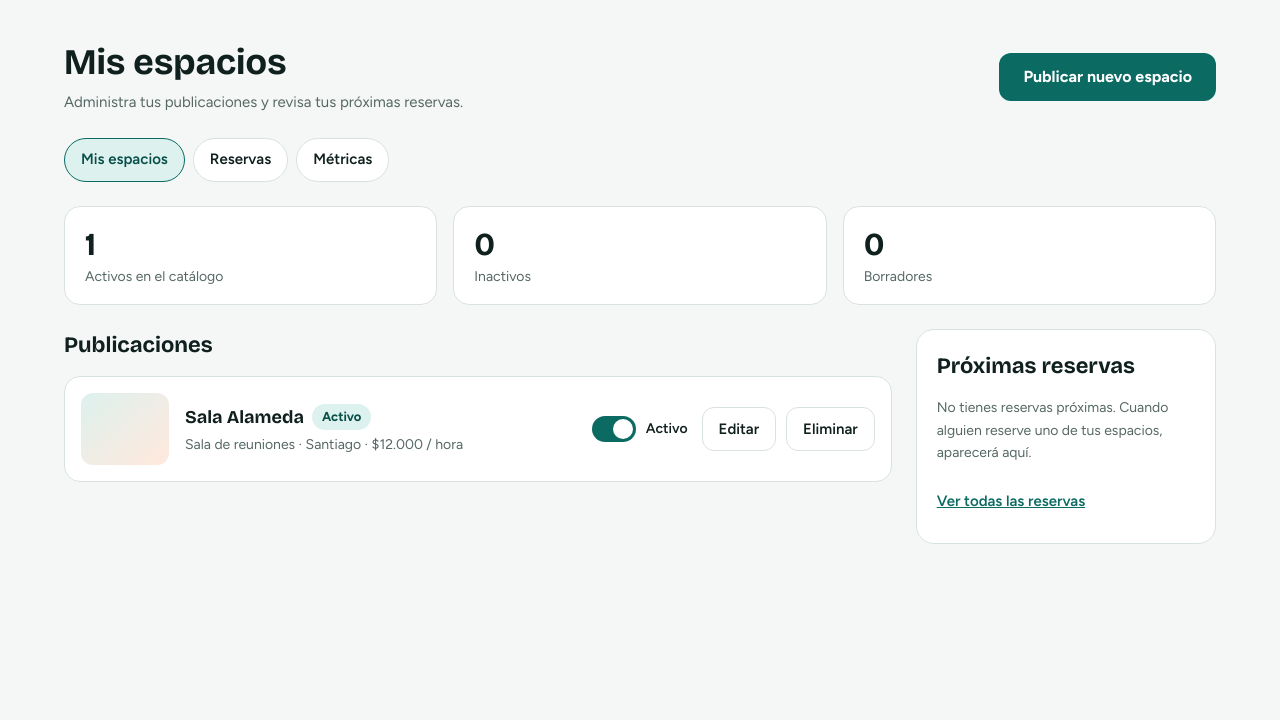
Test: OwnerSpacesPage › desactivar › pide confirmación y no cambia nada si se cancela
This screenshot has width=1280, height=720.
Expected: the heading "Publicaciones" is shown, top-left (64, 332), bottom-right (213, 358)
Step 1. Click the switch labelled "Activo" → (640,429), box top-left (588, 407), bottom-right (692, 451)
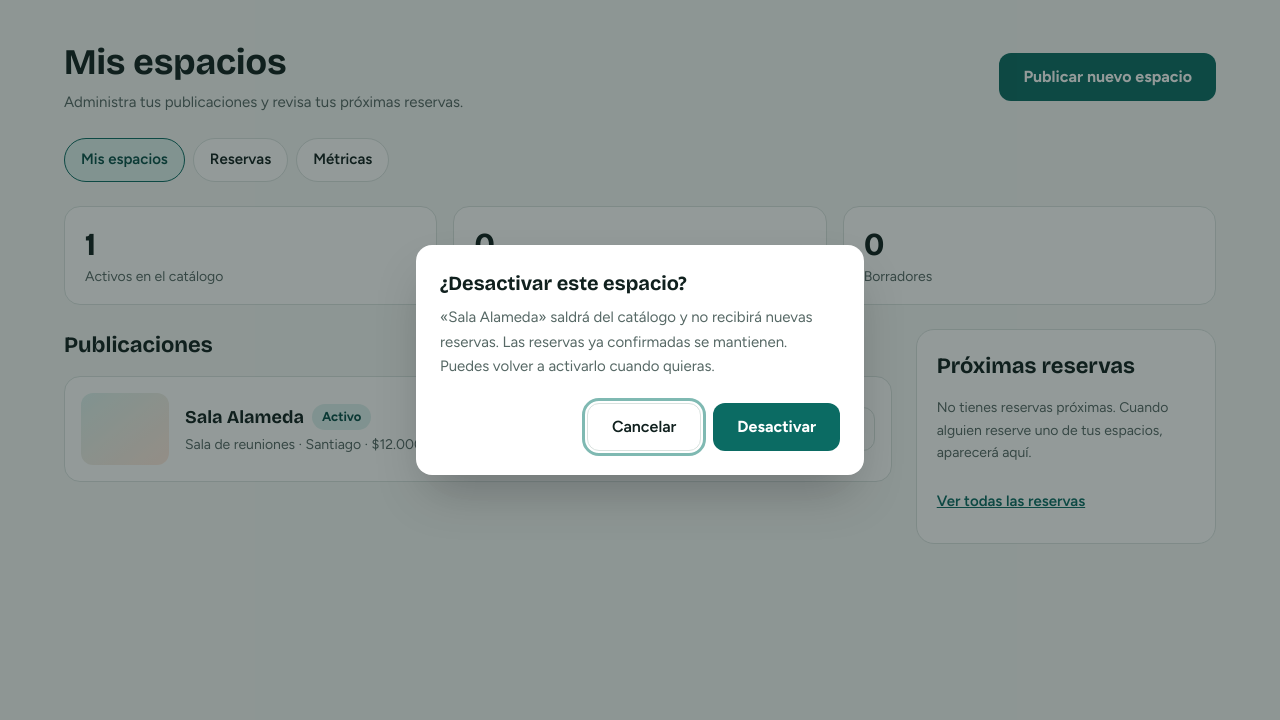
Result: the text "Sala Alameda" is shown at top-left (448, 308), bottom-right (538, 326)
Result: the text "Las reservas ya confirmadas se mantienen" is shown at top-left (440, 308), bottom-right (812, 375)
Step 2. Click the button "Cancelar" → (644,427), box top-left (587, 403), bottom-right (701, 451)
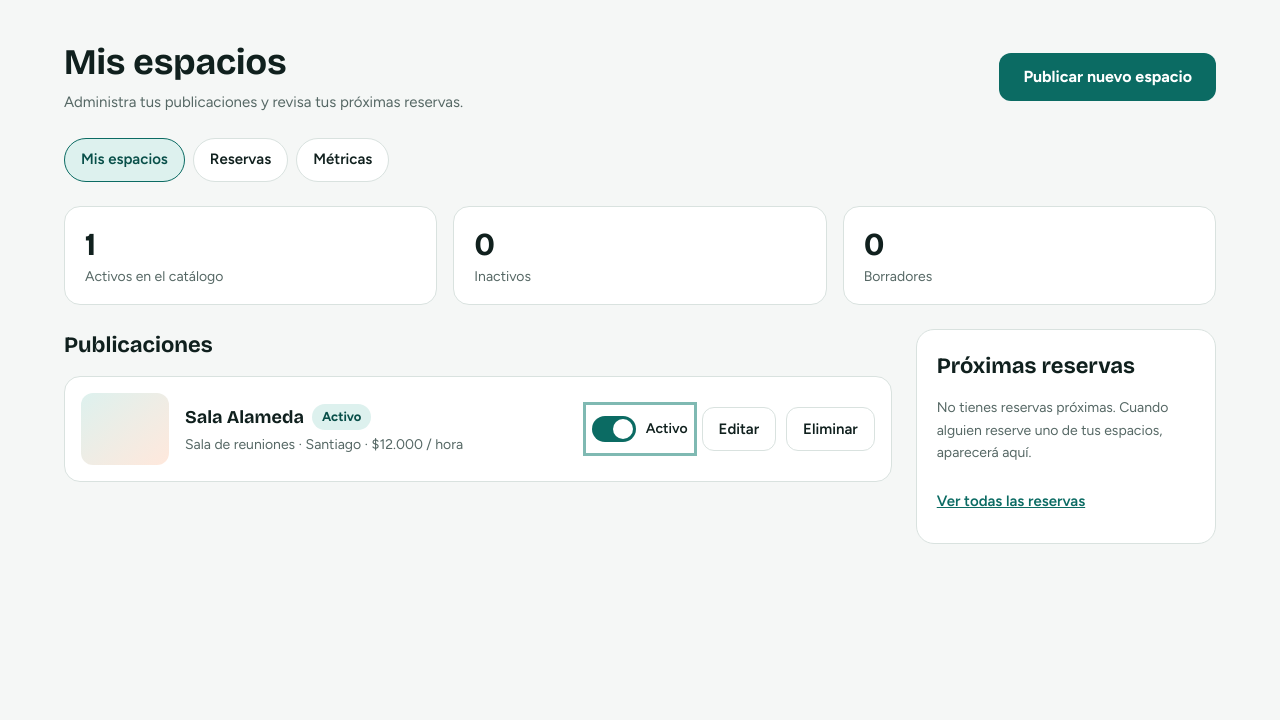
Result: the dialog is gone
